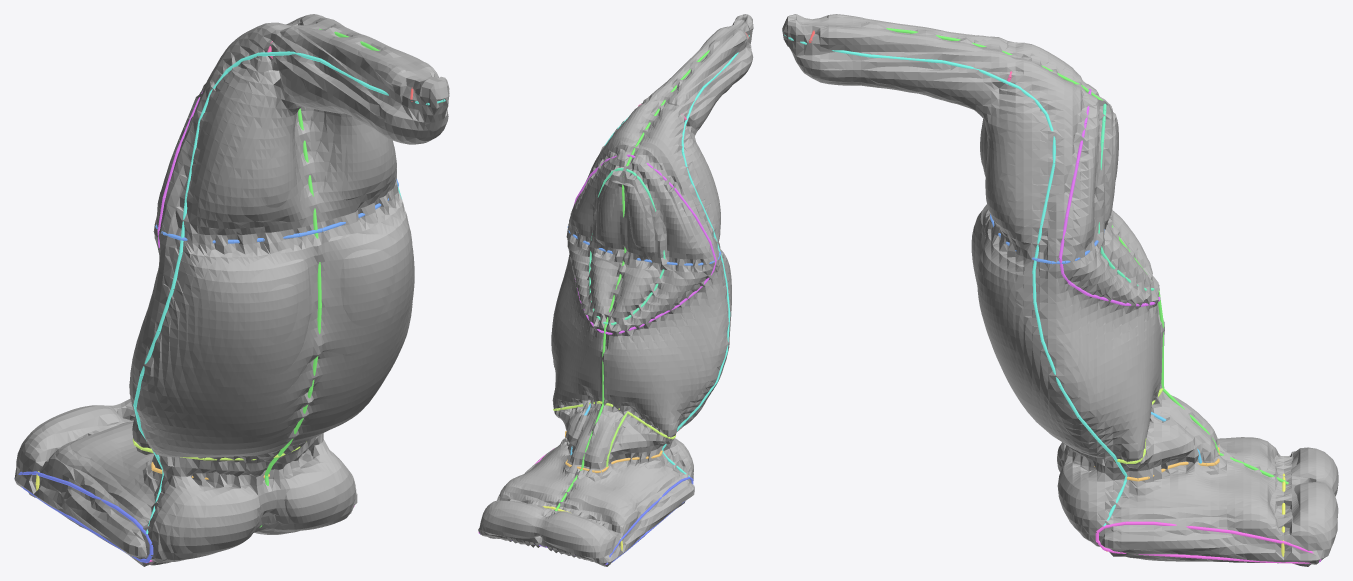
Rendered from t2f_vacuum.gltf.
The picture shows the model from 3 angles, left to right: view 1: azimuth 30°, elevation 25°; view 2: azimuth 150°, elevation 25°; view 3: azimuth 270°, elevation 25°; orthographic projection. The views are drawn at different scales.
Bounding box in the file's own units: 0.317 × 0.7076 × 0.6891.
